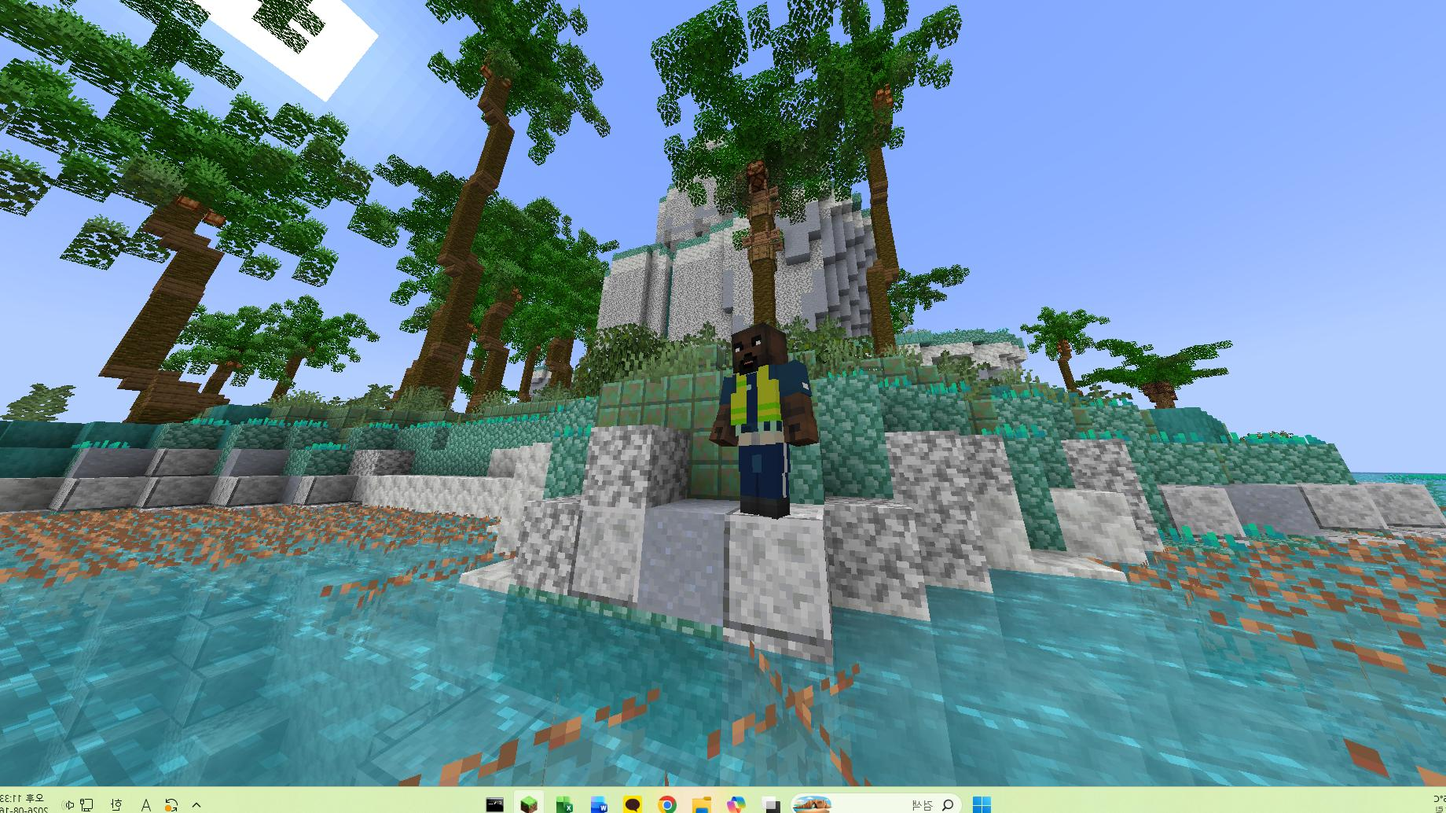Guardian: (710, 324, 818, 518)
